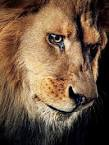lion: (1, 2, 109, 144)
